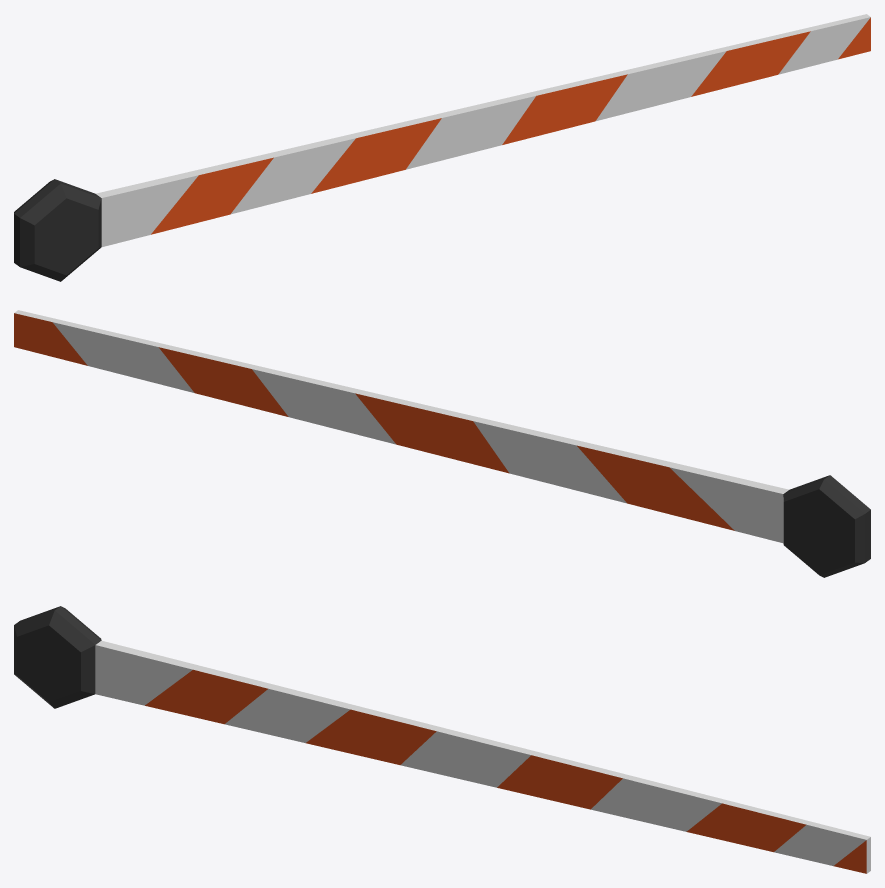
3 views of the same model, one above another, from view 1: azimuth 30°, elevation 25°; view 2: azimuth 150°, elevation 25°; view 3: azimuth 330°, elevation 25° (orthographic).
Visible parts, largest first — view 1: Circle, Circle.001; view 2: Circle, Circle.001; view 3: Circle, Circle.001.
Part boxes in pixels (bbox=[...]): Circle: bbox=[14, 103, 502, 281]; Circle.001: bbox=[474, 14, 870, 150]; Circle: bbox=[387, 396, 870, 577]; Circle.001: bbox=[14, 310, 414, 444]; Circle: bbox=[14, 606, 497, 782]; Circle.001: bbox=[471, 737, 870, 873].
Bounding box in the file's own units: 1091 × 120 × 37.11.
